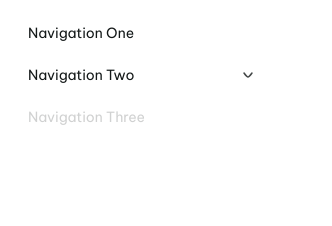
Test case: Navigation - vertical › expands a submenu on click
The image size is (332, 226).
Click the button "Navigation Two": point(81, 75) [12,54,272,96]
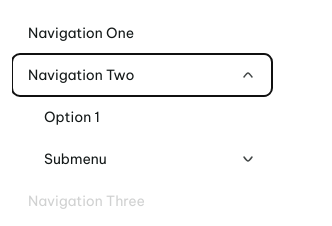
Expected: the button "Option 1" is shown, [12,96,272,138]
Now the button "Navigation Two" is expanded, box [12,54,272,96]
